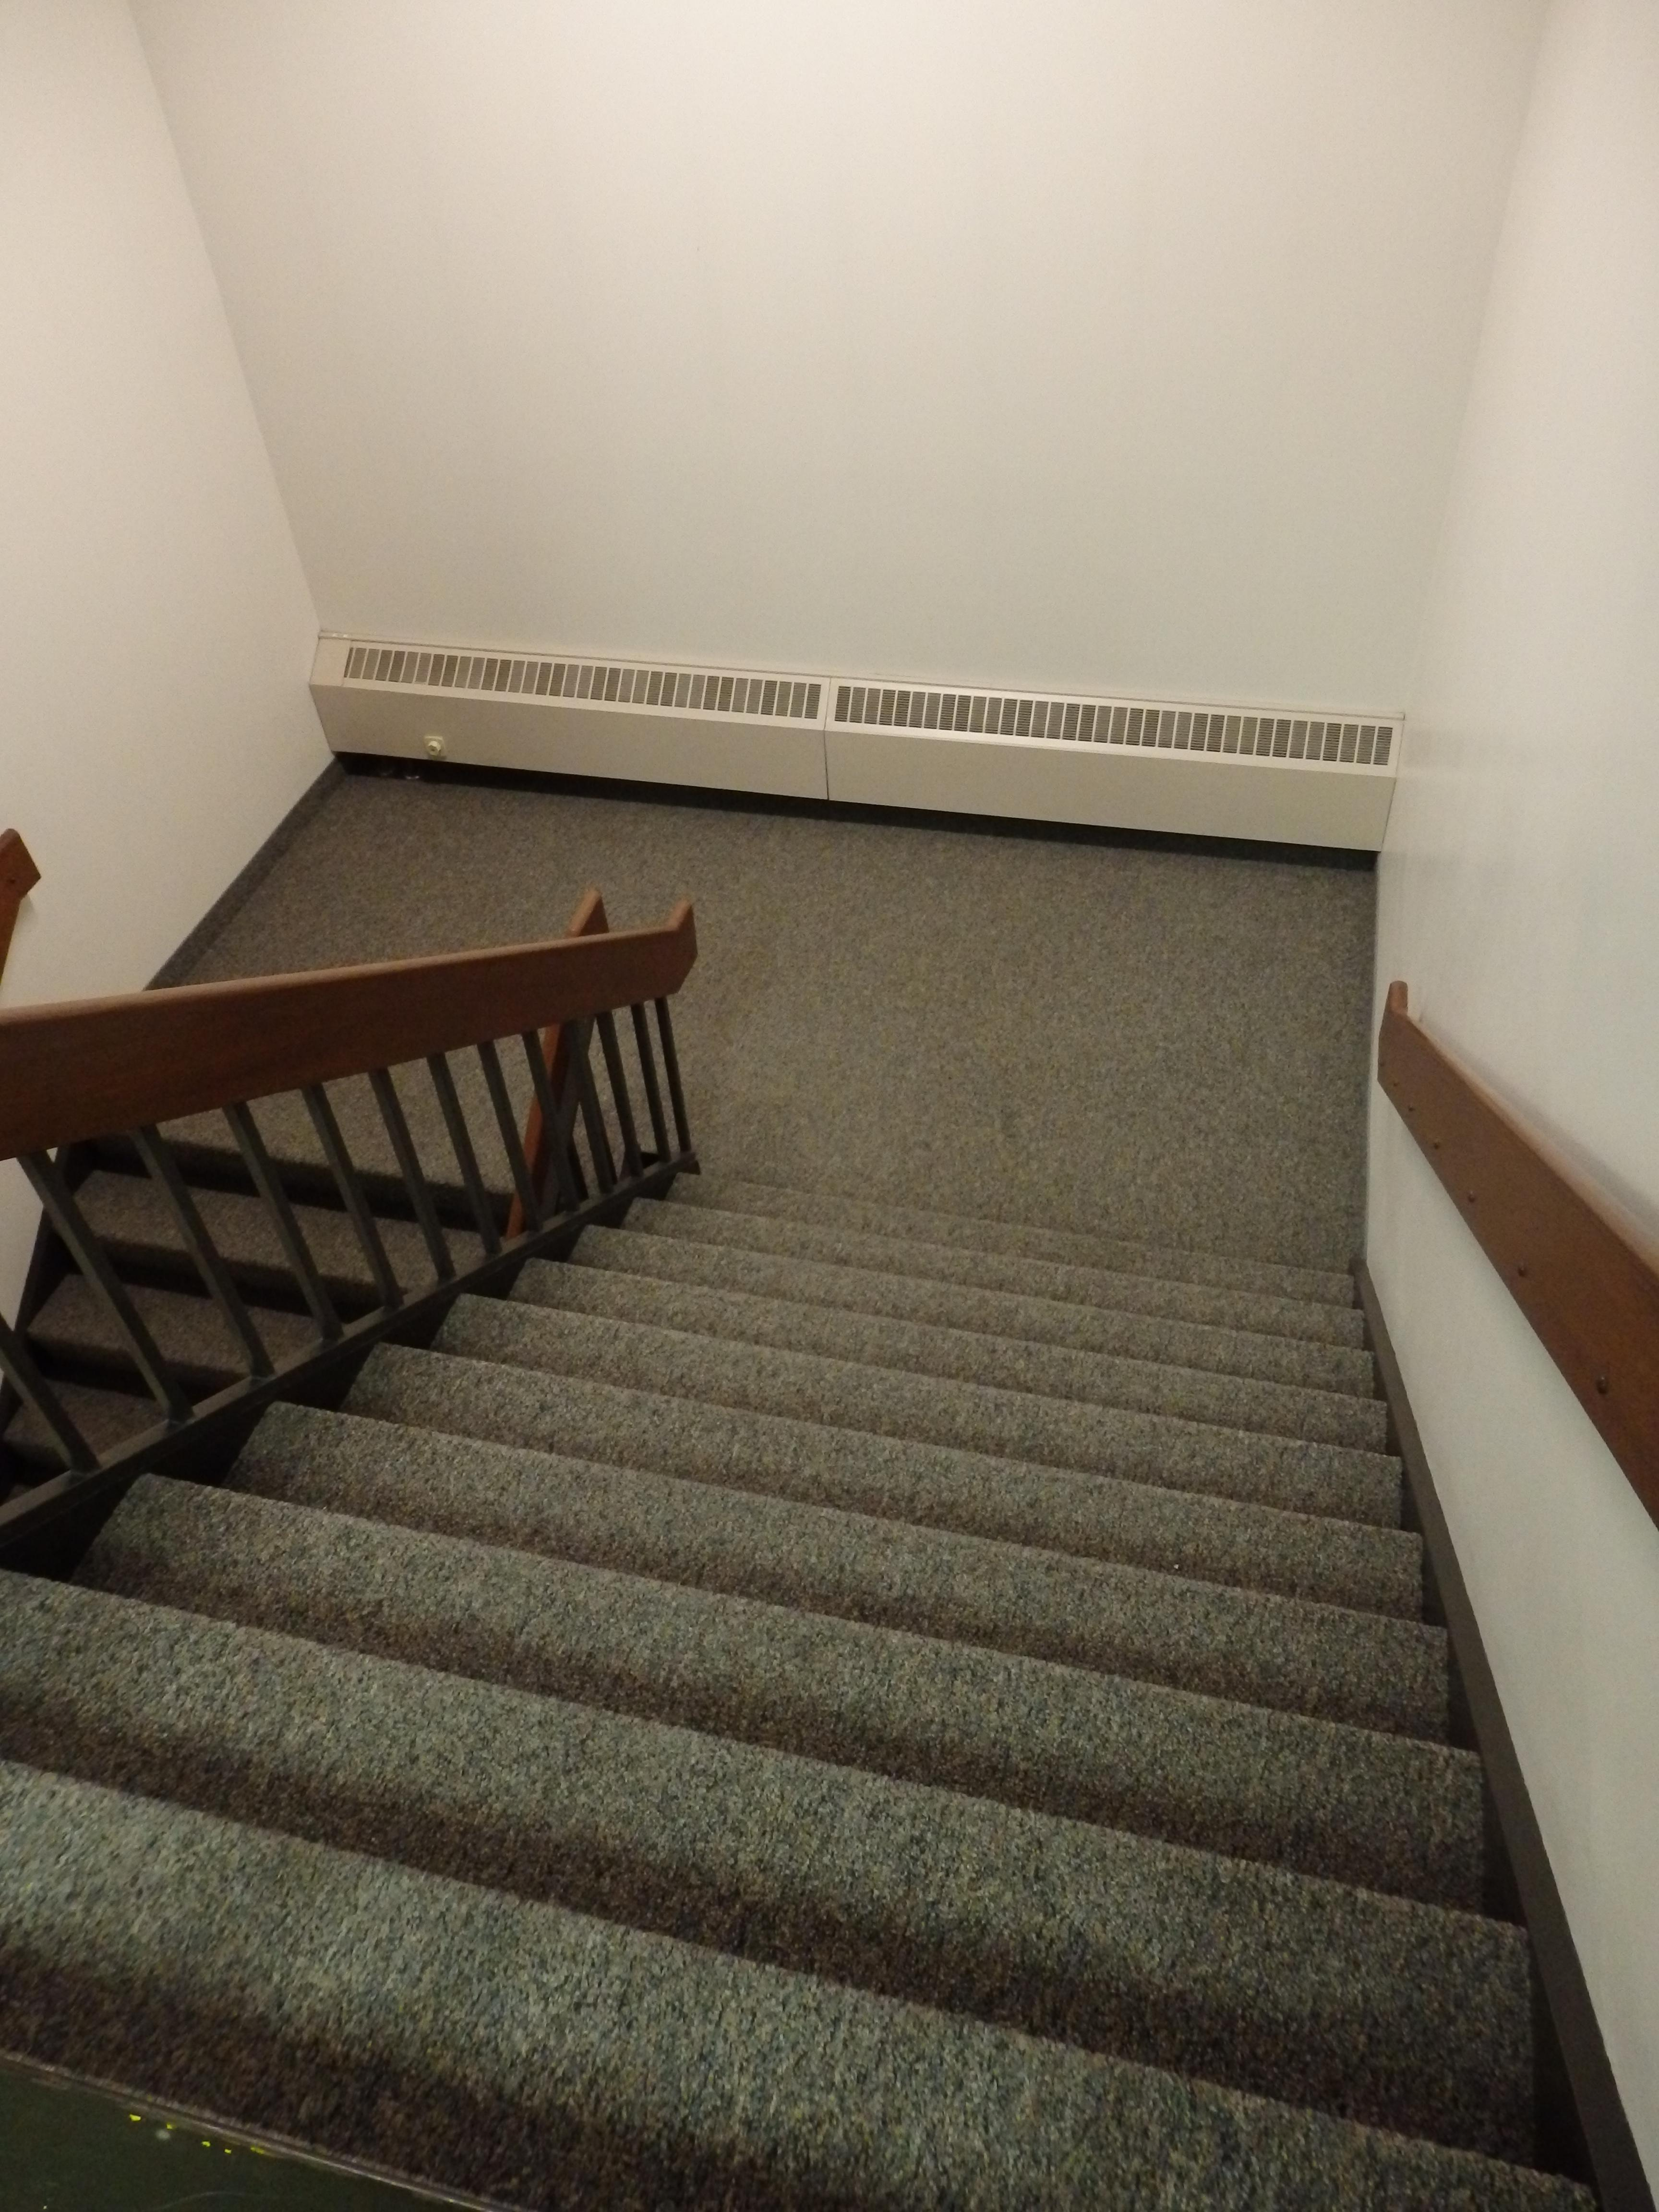stairs_down: (10, 1244, 1568, 2182)
